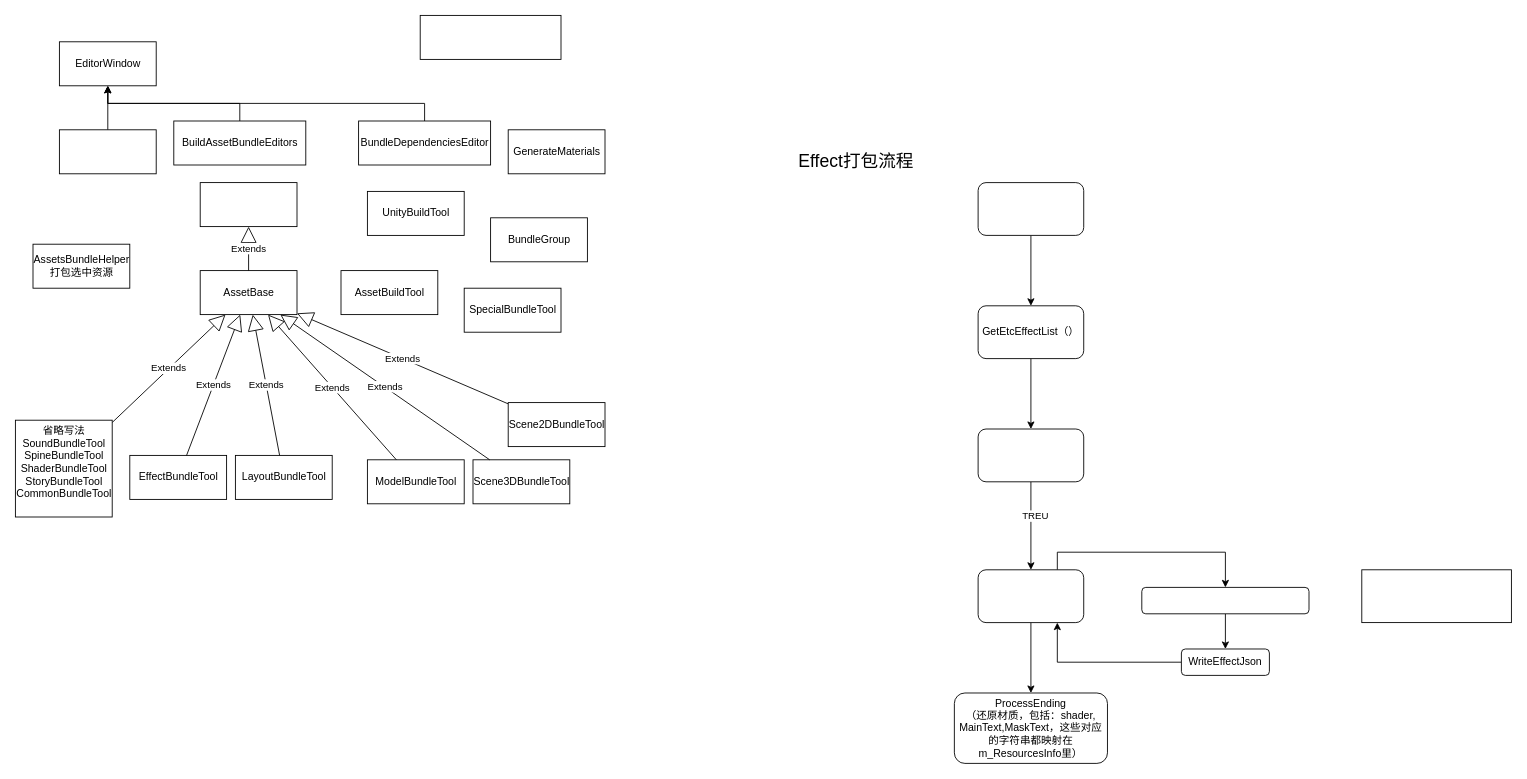
The diagram is 1527 pixels wide and 779 high, and some of its shapes have lost their labels. Here are the shapes that lost their labels. From the top down, the centre of each, then its label:
pixel 490 37: SceneObjsConfigGenerator
pixel 107 151: BundleGroupEditor
pixel 248 204: «interface» IAssetBase
pixel 1030 208: EffectBundleTool Init
pixel 1030 455: BuildSomeNormalEffect
pixel 1030 596: PostProcess
pixel 1225 600: （ShaderDependencies干了什么）
pixel 1436 596: m_ResourcesInfo Dictionary<string, List<string>>
